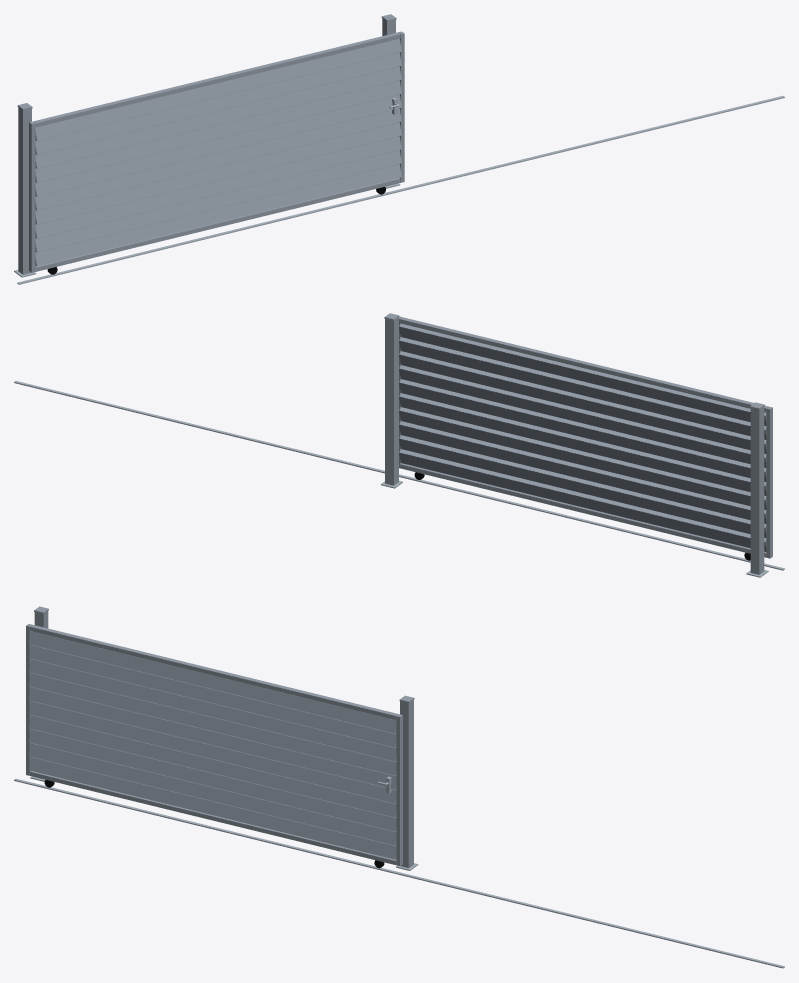
The model's file is 08-klizna.glb.
3 views of the same model, one above another, from view 1: azimuth 30°, elevation 25°; view 2: azimuth 150°, elevation 25°; view 3: azimuth 330°, elevation 25° (orthographic).
Parts seen in each view (by area): view 1: Ispuna_horizontalna.125, Ispuna_horizontalna.132, Ispuna_horizontalna.127, Ispuna_horizontalna.133, Ispuna_horizontalna.128, Ispuna_horizontalna.131, Ispuna_horizontalna.126, Ispuna_horizontalna.129, Ispuna_horizontalna.130, Ispuna_horizontalna.134, Ram_gornji.024, Okov_vodilica_demo.007 (+4 smaller); view 2: Ispuna_horizontalna.129, Ispuna_horizontalna.125, Ispuna_horizontalna.126, Ispuna_horizontalna.127, Ispuna_horizontalna.128, Ispuna_horizontalna.130, Ispuna_horizontalna.131, Ispuna_horizontalna.132, Ispuna_horizontalna.133, Ispuna_horizontalna.134, Ram_gornji.024, Okov_vodilica_demo.007 (+4 smaller); view 3: Ispuna_horizontalna.127, Ispuna_horizontalna.131, Ispuna_horizontalna.125, Ispuna_horizontalna.126, Ispuna_horizontalna.128, Ispuna_horizontalna.132, Ispuna_horizontalna.133, Ispuna_horizontalna.129, Ispuna_horizontalna.130, Ispuna_horizontalna.134, Ram_gornji.024, Okov_vodilica_demo.007 (+4 smaller).
Part boxes in pixels (bbox=[...]): Ispuna_horizontalna.125: bbox=[35, 164, 401, 266]; Ispuna_horizontalna.132: bbox=[35, 66, 401, 168]; Ispuna_horizontalna.127: bbox=[35, 136, 401, 238]; Ispuna_horizontalna.133: bbox=[35, 52, 401, 154]; Ispuna_horizontalna.128: bbox=[35, 122, 401, 224]; Ispuna_horizontalna.131: bbox=[35, 80, 401, 182]; Ispuna_horizontalna.126: bbox=[35, 150, 401, 252]; Ispuna_horizontalna.129: bbox=[35, 108, 401, 210]; Ispuna_horizontalna.130: bbox=[35, 94, 401, 196]; Ispuna_horizontalna.134: bbox=[35, 38, 401, 140]; Ram_gornji.024: bbox=[33, 32, 400, 127]; Okov_vodilica_demo.007: bbox=[17, 96, 784, 284]; Ispuna_horizontalna.129: bbox=[399, 393, 766, 495]; Ispuna_horizontalna.125: bbox=[399, 449, 766, 551]; Ispuna_horizontalna.126: bbox=[399, 435, 766, 537]; Ispuna_horizontalna.127: bbox=[399, 421, 766, 523]; Ispuna_horizontalna.128: bbox=[399, 407, 766, 509]; Ispuna_horizontalna.130: bbox=[399, 379, 766, 481]; Ispuna_horizontalna.131: bbox=[399, 365, 766, 467]; Ispuna_horizontalna.132: bbox=[399, 351, 766, 453]; Ispuna_horizontalna.133: bbox=[399, 337, 766, 439]; Ispuna_horizontalna.134: bbox=[399, 323, 766, 425]; Ram_gornji.024: bbox=[400, 317, 768, 412]; Okov_vodilica_demo.007: bbox=[14, 381, 784, 570]; Ispuna_horizontalna.127: bbox=[29, 729, 396, 831]; Ispuna_horizontalna.131: bbox=[29, 673, 396, 775]; Ispuna_horizontalna.125: bbox=[29, 757, 396, 859]; Ispuna_horizontalna.126: bbox=[29, 743, 396, 845]; Ispuna_horizontalna.128: bbox=[29, 715, 396, 817]; Ispuna_horizontalna.132: bbox=[29, 659, 396, 761]; Ispuna_horizontalna.133: bbox=[29, 645, 396, 747]; Ispuna_horizontalna.129: bbox=[29, 701, 396, 803]; Ispuna_horizontalna.130: bbox=[29, 687, 396, 789]; Ispuna_horizontalna.134: bbox=[29, 631, 396, 733]; Ram_gornji.024: bbox=[30, 625, 398, 719]; Okov_vodilica_demo.007: bbox=[14, 778, 784, 968].
Size of the model in its own units: 8.63 by 1.8 by 0.38.
